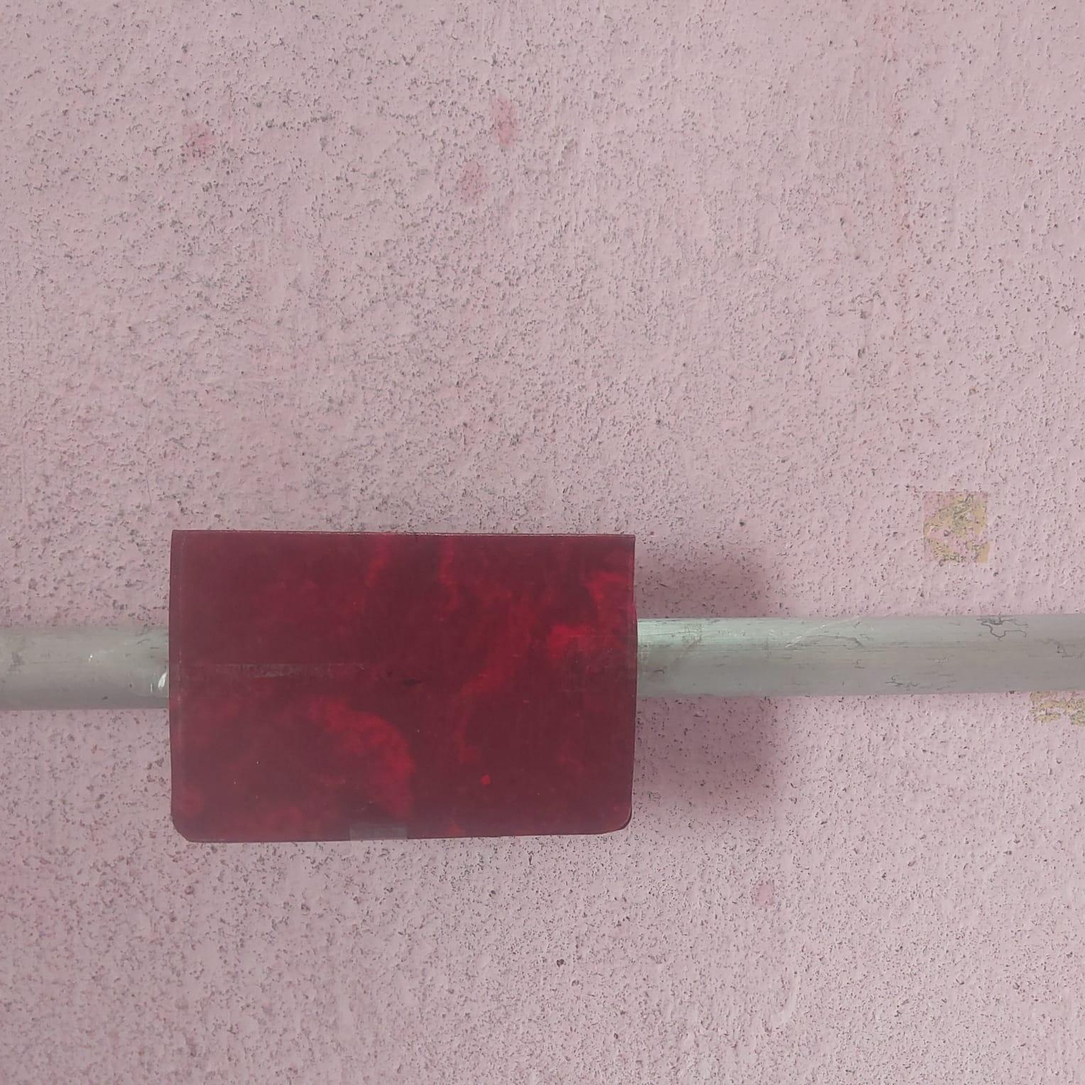wallet: (158, 520, 644, 844)
